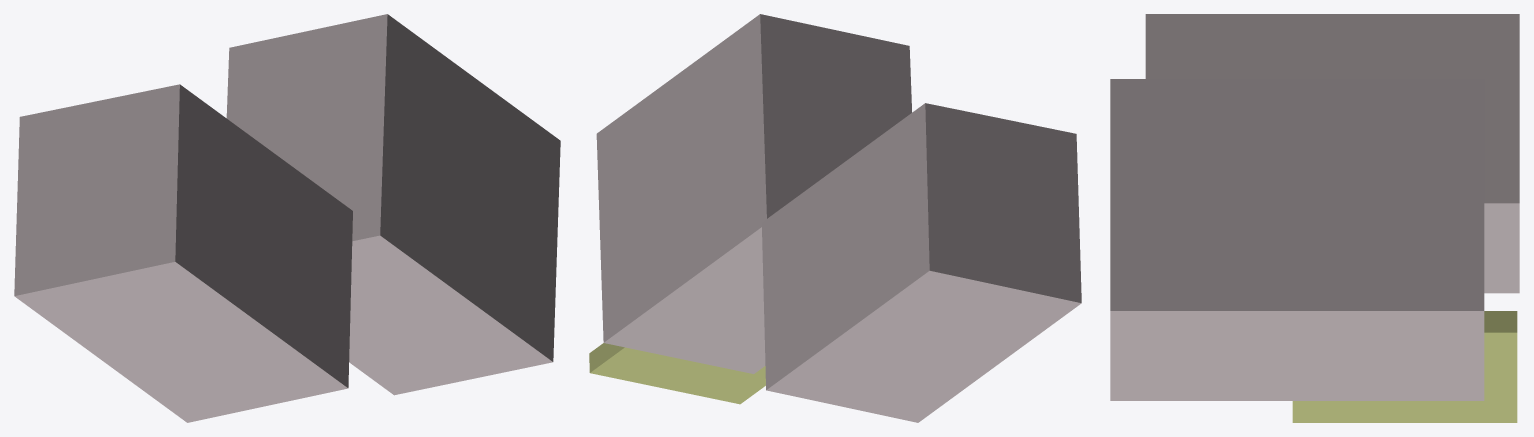
3 renders of one model, left to right at view 1: azimuth 30°, elevation 25°; view 2: azimuth 150°, elevation 25°; view 3: azimuth 270°, elevation 25°, orthographic. The views are drawn at different scales.
Visible parts, largest first — view 1: 0_2_1_3_0_0_2_0_3_2; view 2: 0_2_1_3_0_0_2_0_3_2; view 3: 0_2_1_3_0_0_2_0_3_2.
Boxes of the visible parts, bbox=[...] form: 0_2_1_3_0_0_2_0_3_2: bbox=[14, 14, 560, 422]; 0_2_1_3_0_0_2_0_3_2: bbox=[589, 14, 1081, 422]; 0_2_1_3_0_0_2_0_3_2: bbox=[1110, 14, 1519, 422].
Size of the model in its own units: 17.85 by 11.72 by 16.42.
